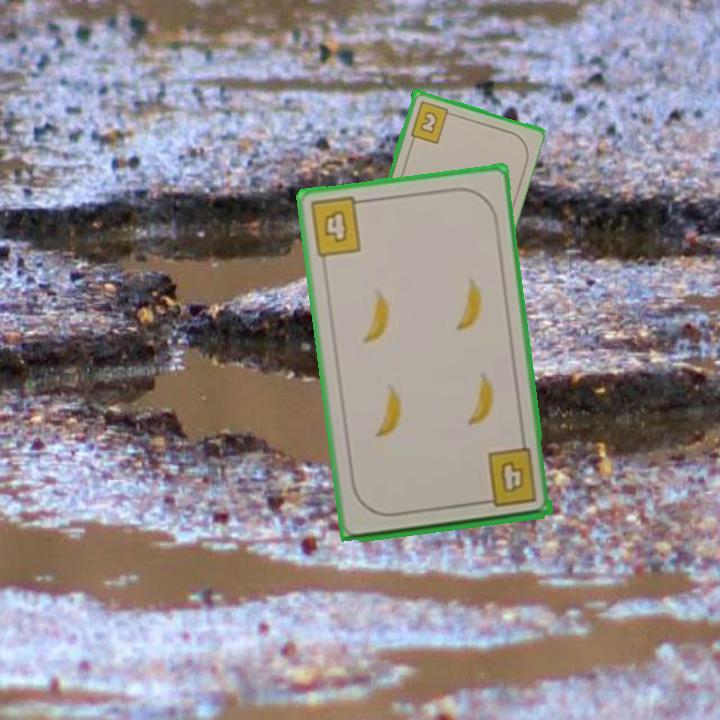2b: (406, 97, 456, 146)
4b: (305, 194, 370, 260), (476, 445, 540, 511)
